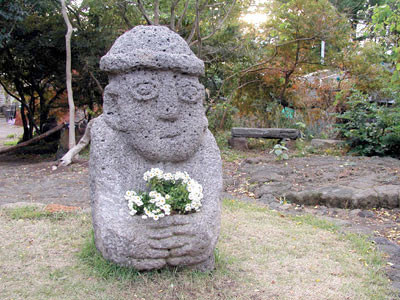Stone Statue: (68, 12, 233, 286)
